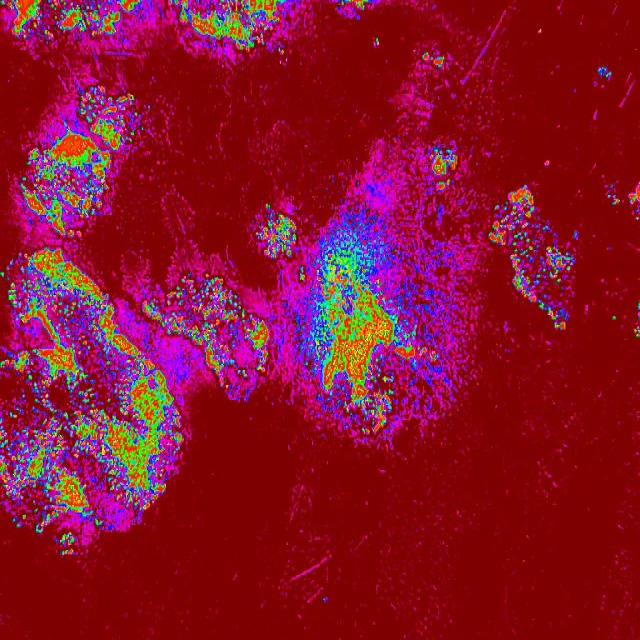fire: (289, 203, 447, 448), (0, 340, 135, 535), (18, 84, 154, 234), (135, 272, 274, 402), (488, 185, 576, 331), (0, 248, 120, 340), (169, 0, 296, 52), (135, 402, 186, 522), (0, 0, 152, 39), (256, 198, 290, 260), (425, 141, 460, 194), (330, 0, 374, 18), (419, 47, 448, 71), (626, 183, 640, 222), (593, 64, 613, 88), (604, 183, 620, 206), (634, 298, 640, 344), (372, 35, 382, 47), (612, 314, 618, 325)
